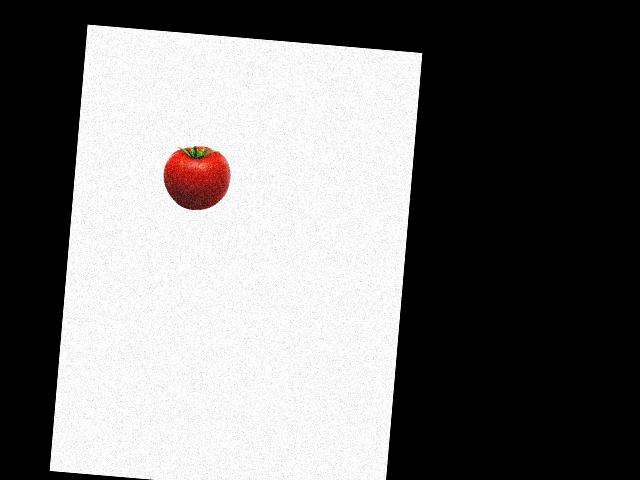tomato: (161, 143, 225, 212)
